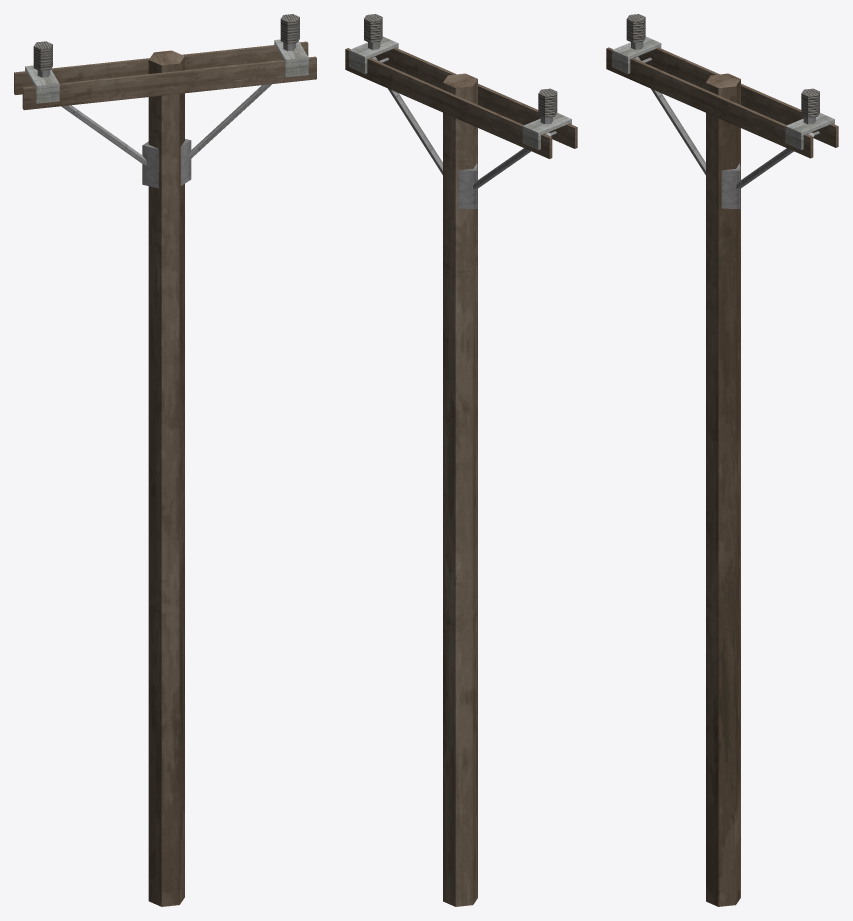
File: electric pole.FBX
The picture shows the model from 3 angles, left to right: view 1: azimuth 30°, elevation 25°; view 2: azimuth 150°, elevation 25°; view 3: azimuth 330°, elevation 25°; orthographic projection. The views are drawn at different scales.
Visible parts, largest first — view 1: Object345; view 2: Object345; view 3: Object345.
Part boxes in pixels (x1,y1,x2,y2): Object345: (14,14,316,906); Object345: (345,14,577,906); Object345: (606,14,838,906).
Size of the model in its own units: 36.89 by 117 by 15.1.
Materials: 1 (1 with a texture image).
